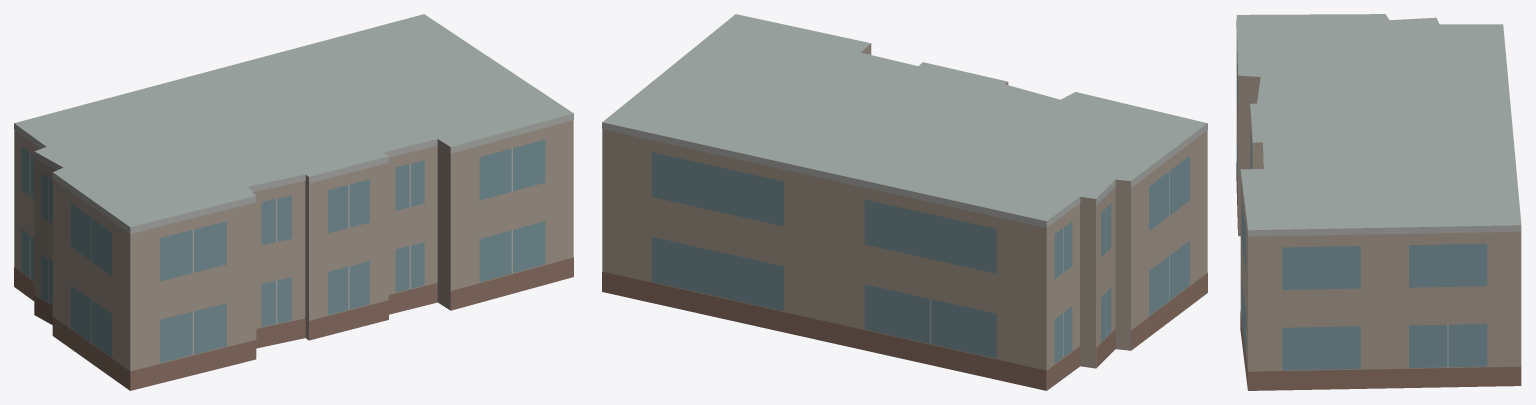
Rendered from survey-upis-32966751.glb.
The picture shows the model from 3 angles, left to right: view 1: azimuth 30°, elevation 25°; view 2: azimuth 150°, elevation 25°; view 3: azimuth 270°, elevation 25°; orthographic projection. The views are drawn at different scales.
Parts seen in each view (by area): view 1: survey-upis-32966751.tmp; view 2: survey-upis-32966751.tmp; view 3: survey-upis-32966751.tmp.
Part boxes in pixels (x1,y1,x2,y2): survey-upis-32966751.tmp: (14,14,573,390); survey-upis-32966751.tmp: (602,14,1207,390); survey-upis-32966751.tmp: (1236,14,1521,390).
Size of the model in its own units: 17.62 by 6.1 by 9.82.
